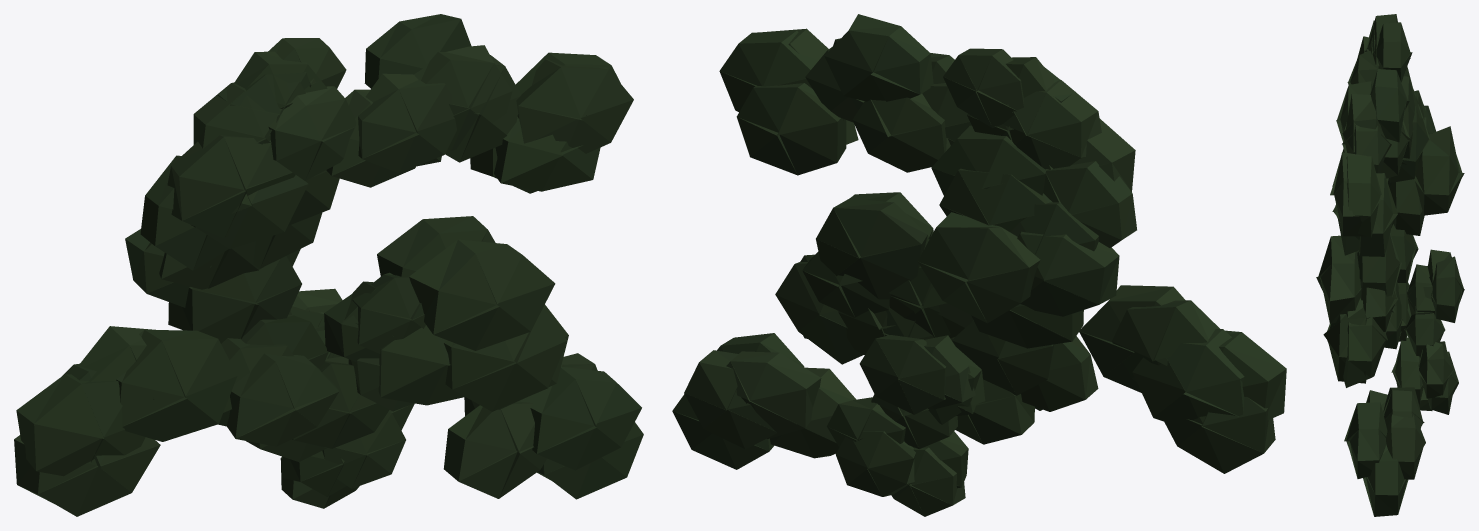
File: tree_m4_far.obj
3 views of the same model, side by side, from view 1: azimuth 30°, elevation 25°; view 2: azimuth 150°, elevation 25°; view 3: azimuth 270°, elevation 25° (orthographic). The views are drawn at different scales.
Size of the model in its own units: 1.81 by 1.42 by 0.5019.
1 material, 1 textured.
